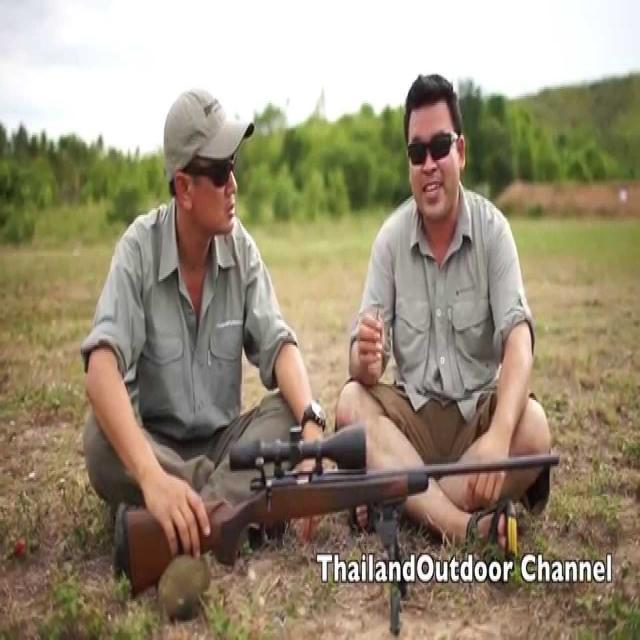rifle: (106, 410, 554, 610)
